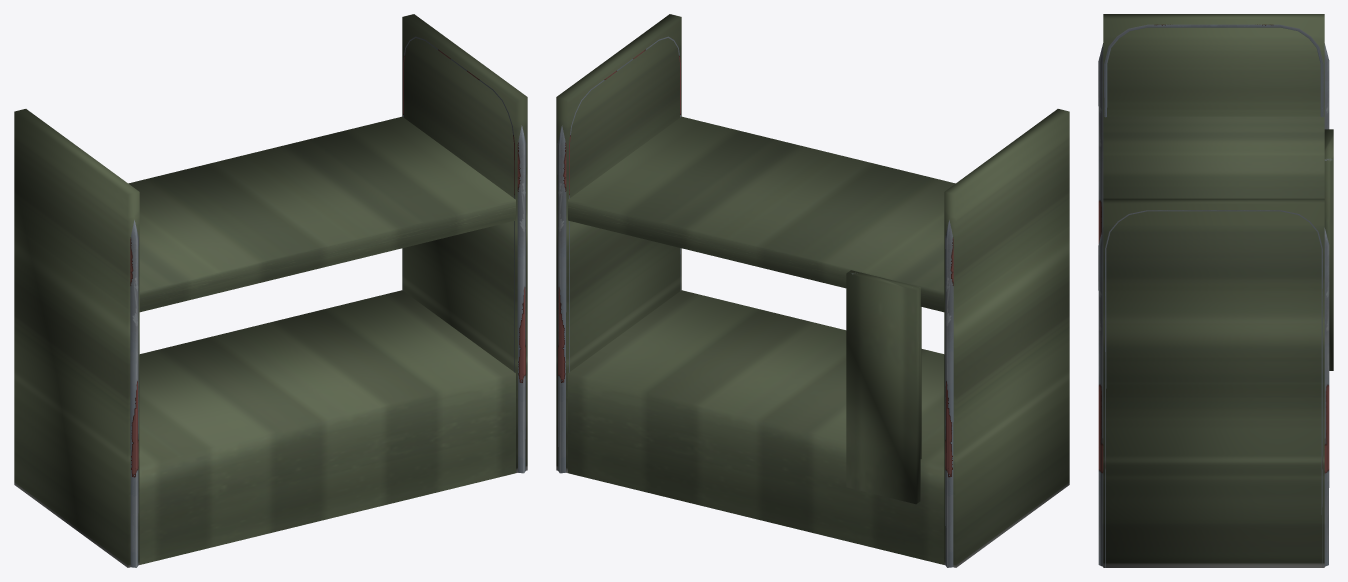
Rendered from bed04_G.fbx.
The picture shows the model from 3 angles, left to right: view 1: azimuth 30°, elevation 25°; view 2: azimuth 150°, elevation 25°; view 3: azimuth 270°, elevation 25°; orthographic projection. The views are drawn at different scales.
Parts seen in each view (by area): view 1: bed04_G_COL, bed04_G; view 2: bed04_G_COL, bed04_G; view 3: bed04_G_COL, bed04_G.
Part boxes in pixels (<box>): bed04_G_COL: <box>14,14,527,567</box>; bed04_G: <box>130,36,526,567</box>; bed04_G_COL: <box>556,14,1069,567</box>; bed04_G: <box>557,36,953,567</box>; bed04_G_COL: <box>1103,14,1333,567</box>; bed04_G: <box>1098,24,1332,567</box>.
Bounding box in the file's own units: 216 × 192 × 112.
